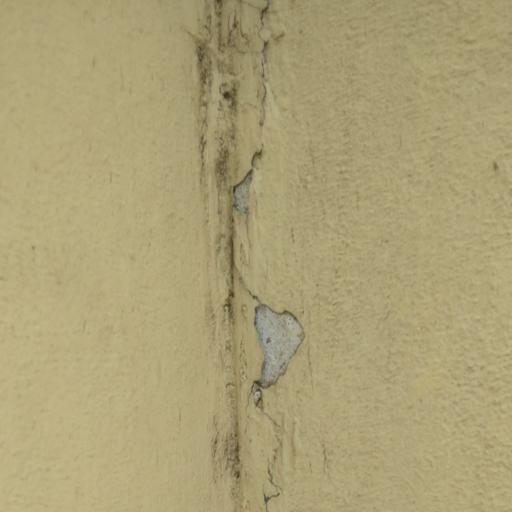peeling: (176, 0, 305, 512)
